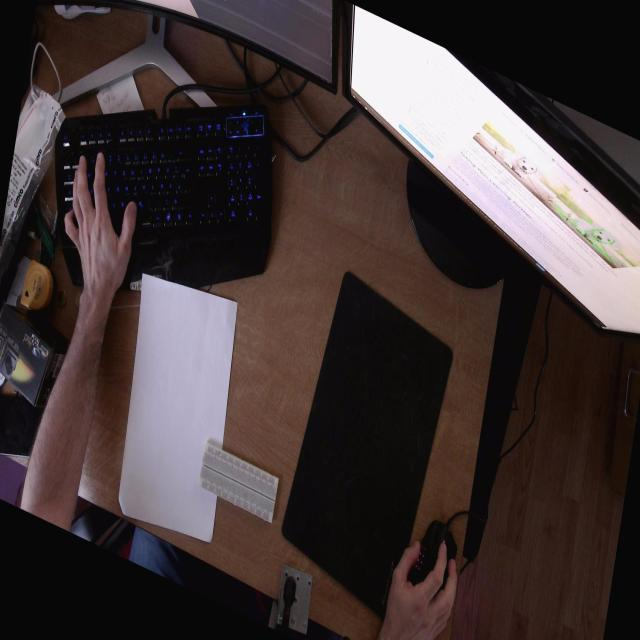keyboard-with-hands: (55, 98, 278, 287)
